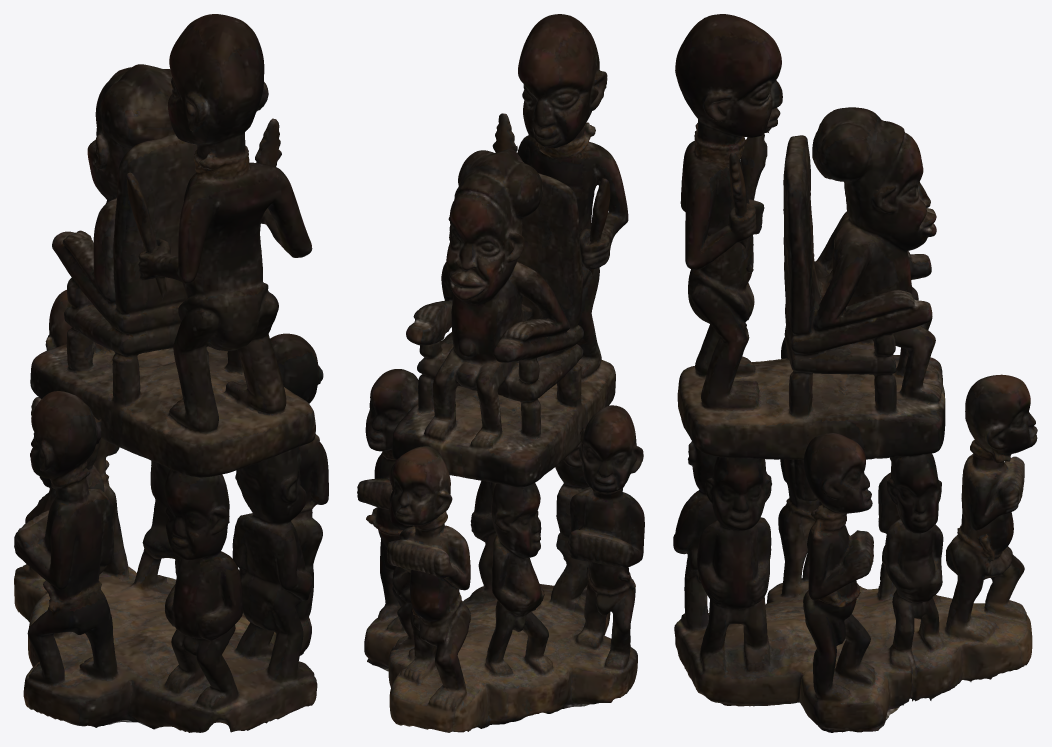
Rendered from preview.glb.
3 views of the same model, side by side, from view 1: azimuth 30°, elevation 25°; view 2: azimuth 150°, elevation 25°; view 3: azimuth 270°, elevation 25° (orthographic). The views are drawn at different scales.
Parts seen in each view (by area): view 1: Object_2; view 2: Object_2; view 3: Object_2.
Boxes of the visible parts, x1,y1,x2,y2 form: Object_2: [14, 14, 328, 732]; Object_2: [357, 14, 644, 732]; Object_2: [673, 14, 1037, 732].
Bounding box in the file's own units: 316 × 710 × 359.
Materials: 1 (1 with a texture image).
